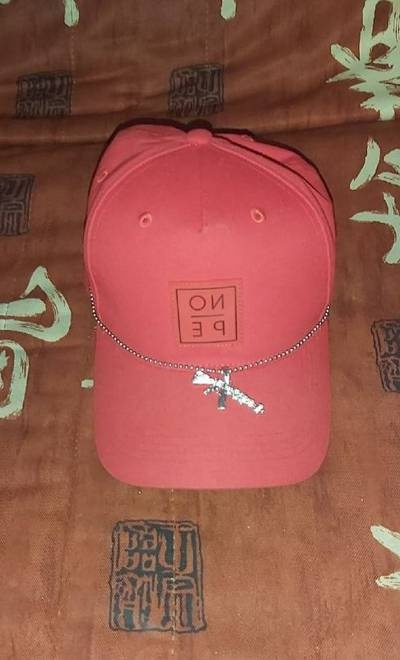Hat: (54, 120, 356, 509)
